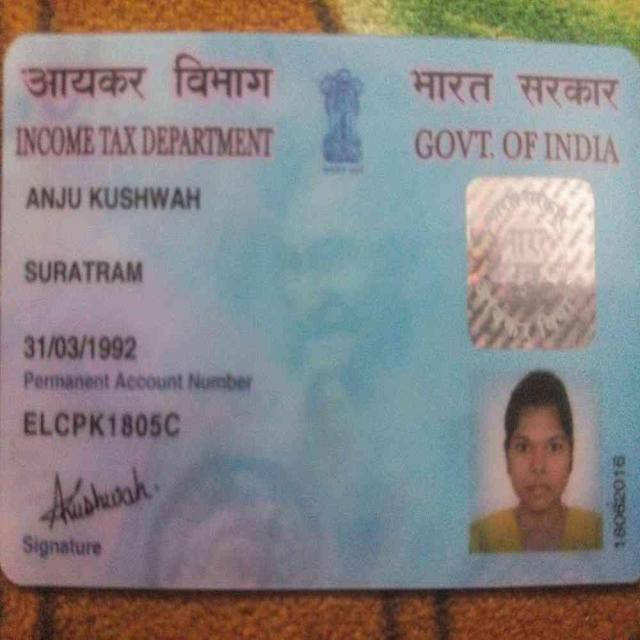pan_card: (4, 40, 639, 587)
